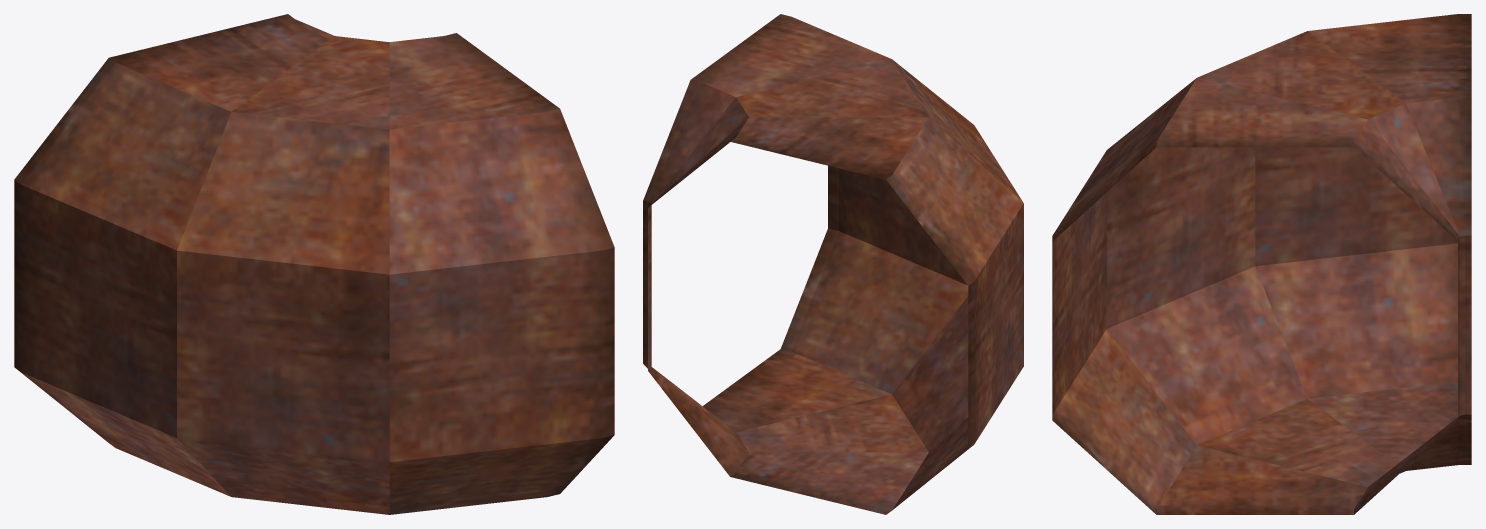
Rendered from MESH_ESGOTO_PIPE_CURVE.fbx.
3 renders of one model, left to right at view 1: azimuth 30°, elevation 25°; view 2: azimuth 150°, elevation 25°; view 3: azimuth 270°, elevation 25°, orthographic. The views are drawn at different scales.
Parts seen in each view (by area): view 1: MESH_ESGOTO_PIPE_CURVE; view 2: MESH_ESGOTO_PIPE_CURVE; view 3: MESH_ESGOTO_PIPE_CURVE.
Boxes of the visible parts, x1,y1,x2,y2 form: MESH_ESGOTO_PIPE_CURVE: (14, 14, 614, 514); MESH_ESGOTO_PIPE_CURVE: (643, 14, 1023, 514); MESH_ESGOTO_PIPE_CURVE: (1052, 14, 1471, 514).
Bounding box in the file's own units: 3.02 × 2.92 × 3.02.
